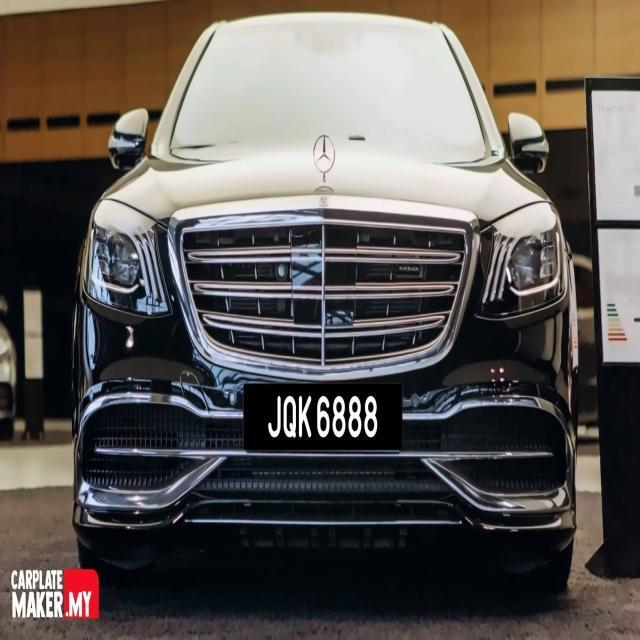License_Plate: (237, 377, 409, 457)
car: (59, 3, 584, 615)
